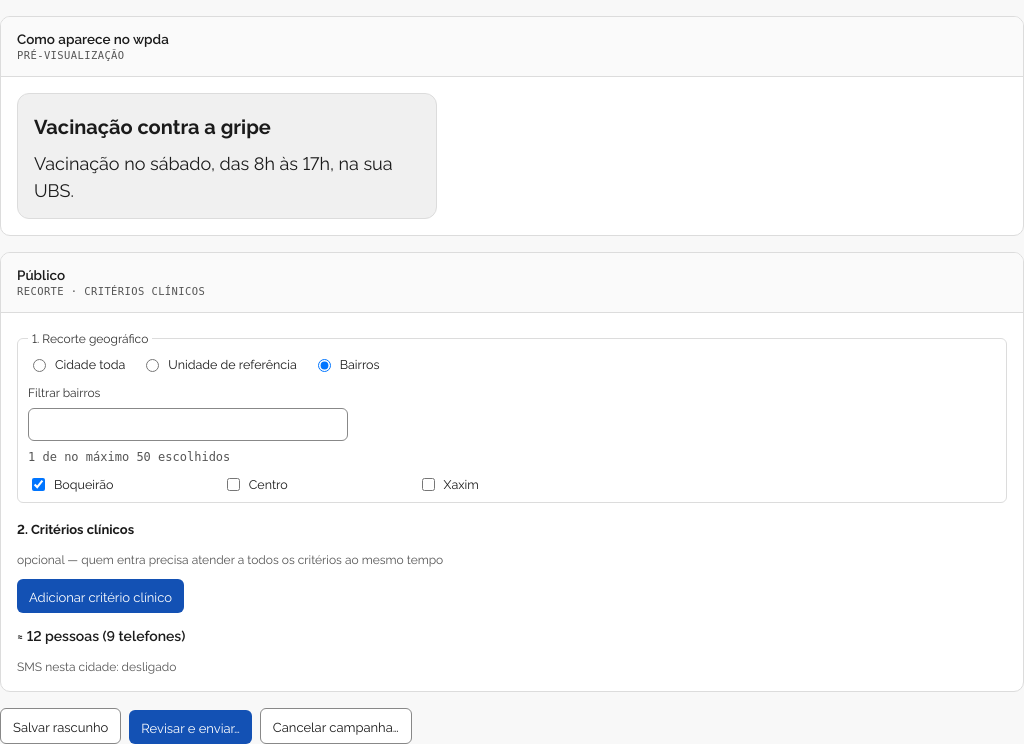
CampaignEditor › nunca mostra o diálogo de envio e o de cancelamento ao mesmo tempo
(page scrolled)
Expected: the text "≈ 12 pessoas (9 telefones)" is shown, [17, 625, 185, 644]
// Com o cancelamento aberto, o envio fica travado (o formulário trava).
Click the button "Cancelar campanha…": {"x": 336, "y": 726} [260, 708, 412, 743]
(page scrolled)
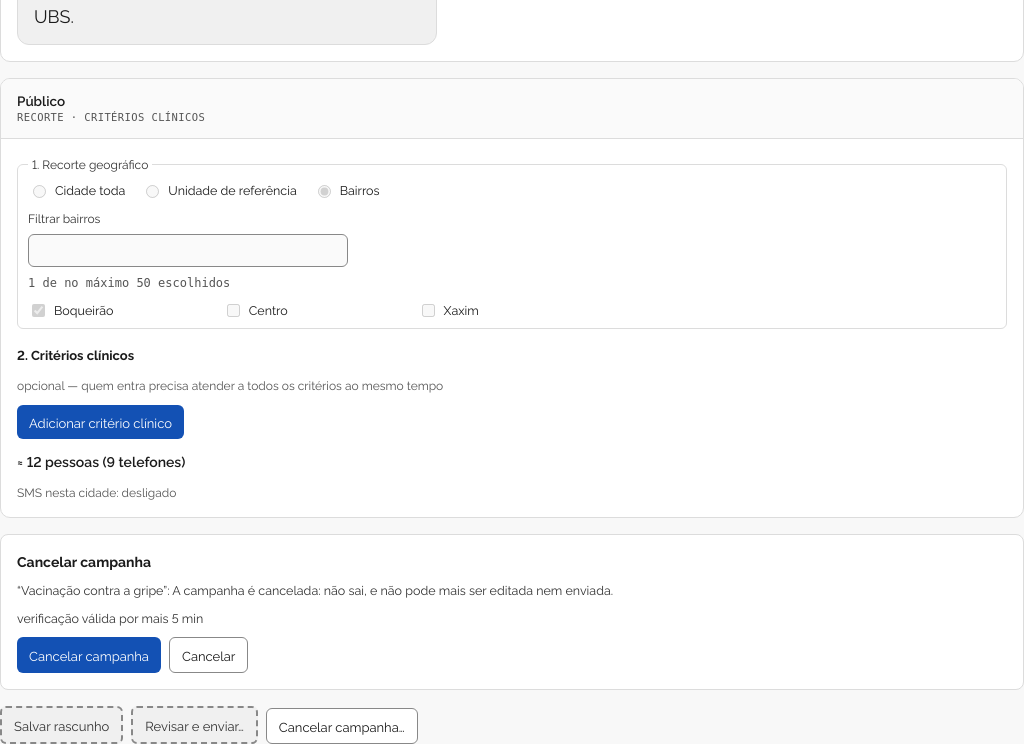
Expected: the button "Cancelar campanha" is shown, [17, 637, 161, 673]
Expected: the button "Revisar e enviar…" is disabled, [131, 706, 258, 743]
Click the button "Cancelar": {"x": 209, "y": 655} [169, 637, 248, 673]
(page scrolled)
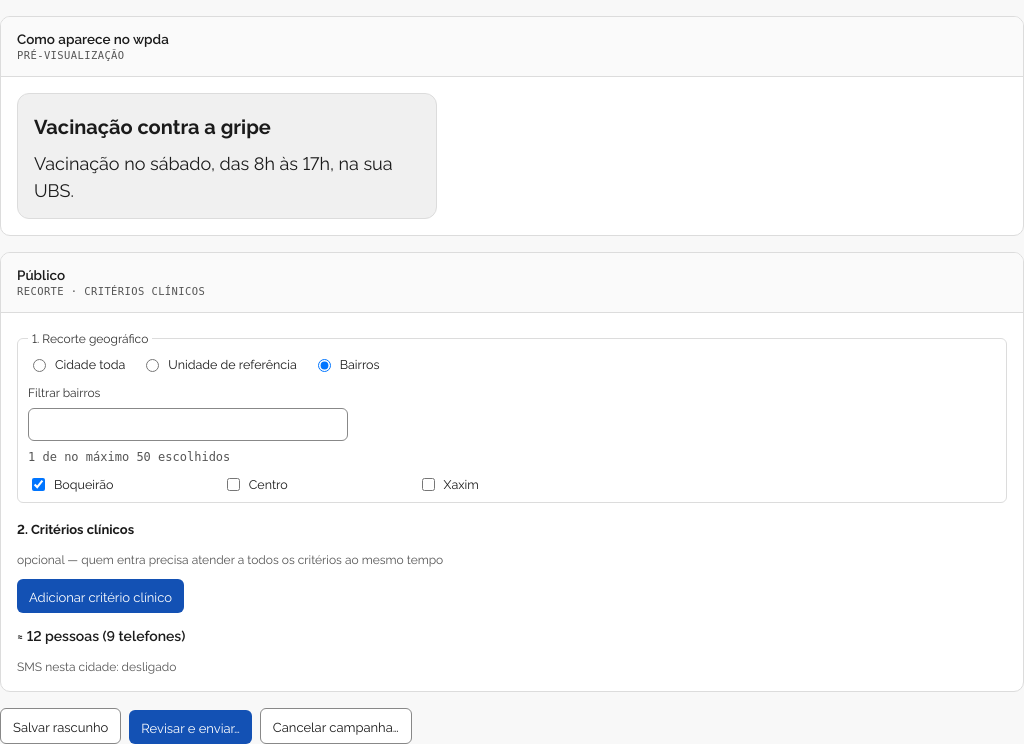
Click the button "Revisar e enviar…": {"x": 191, "y": 727} [129, 710, 252, 743]
(page scrolled)
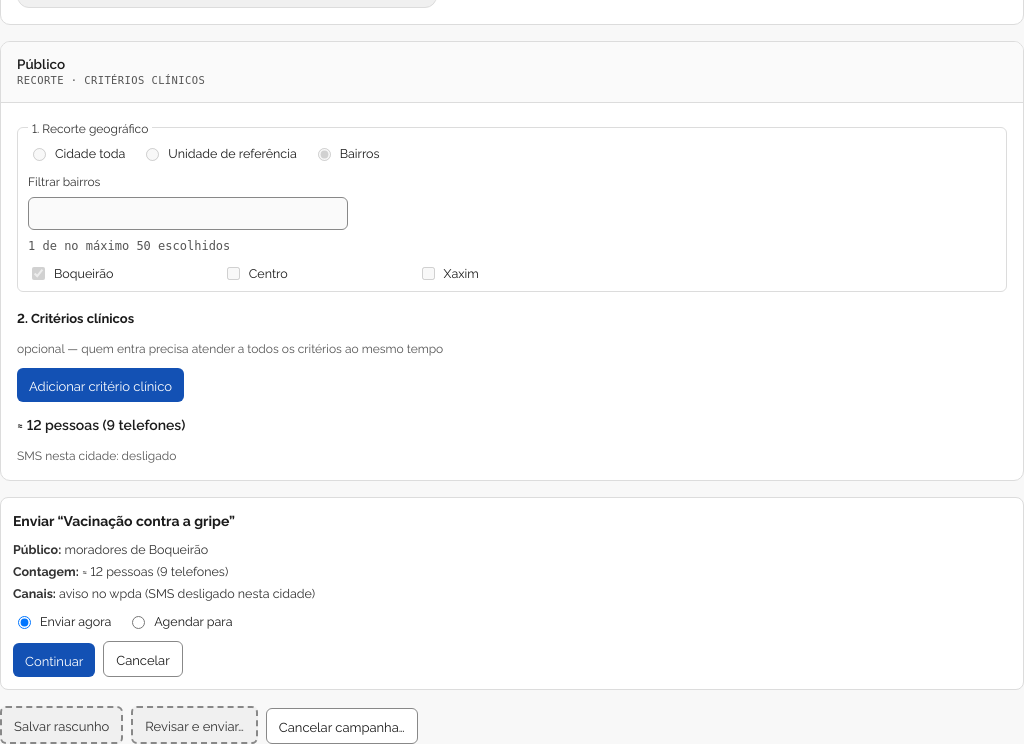
Expected: the dialog named "Como enviar" is shown, [0, 497, 1023, 690]
Click the button "Cancelar campanha…": {"x": 342, "y": 726} [266, 708, 418, 743]
(page scrolled)
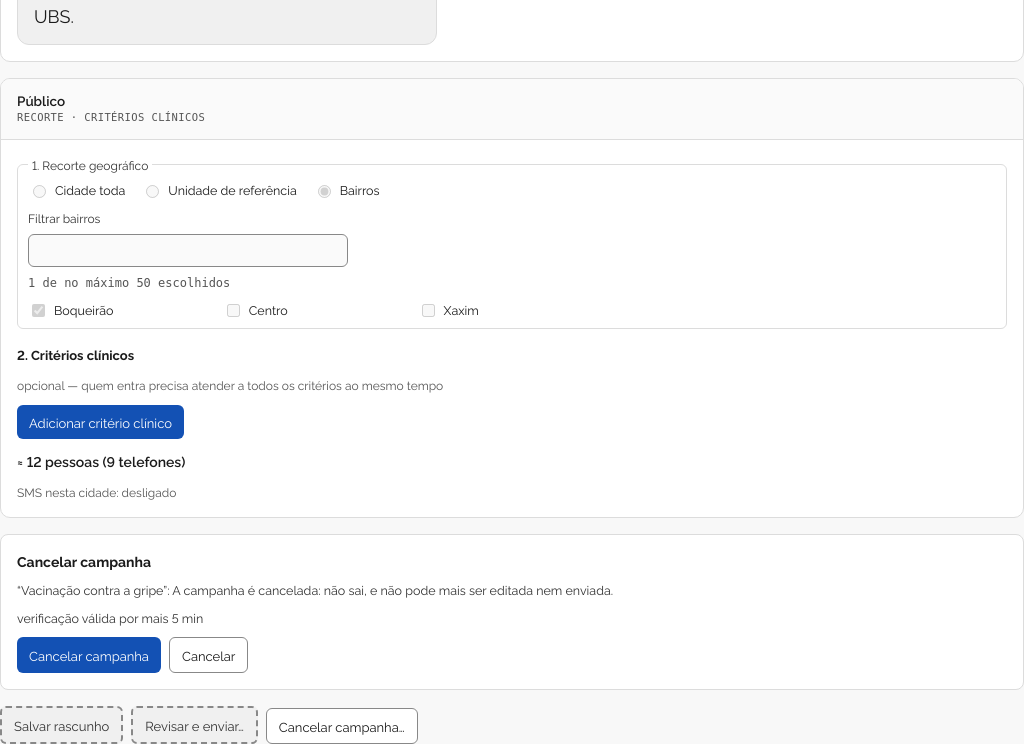
Expected: the button "Cancelar campanha" is shown, [17, 637, 161, 673]
